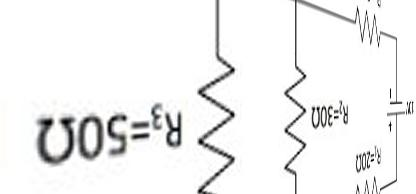resistor: (187, 49, 239, 193), (277, 46, 310, 180), (334, 13, 391, 44)
